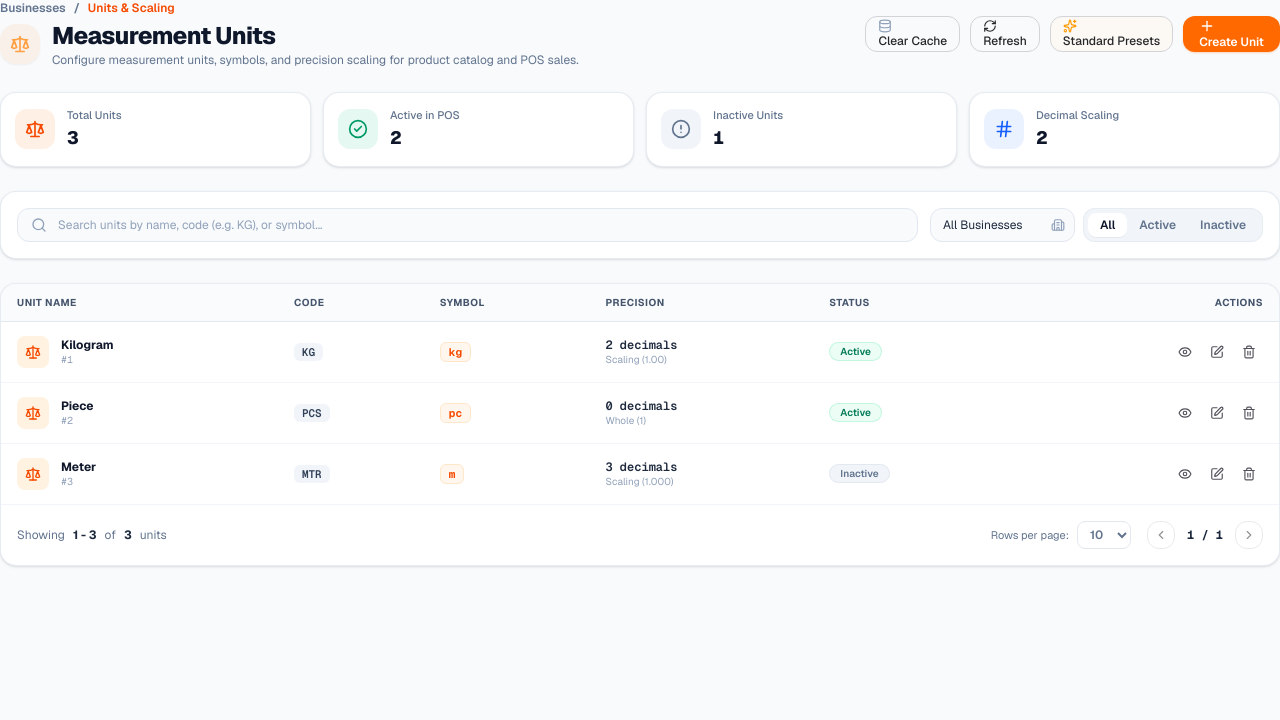
Test case: UnitsListView Component › opens create unit modal when clicking '+ Create Unit'
The image size is (1280, 720).
What coordinates should you click on to do the following:
click the button "Create Unit"
I would click on:
 (1232, 34)
Its box is [1183,16,1279,52].
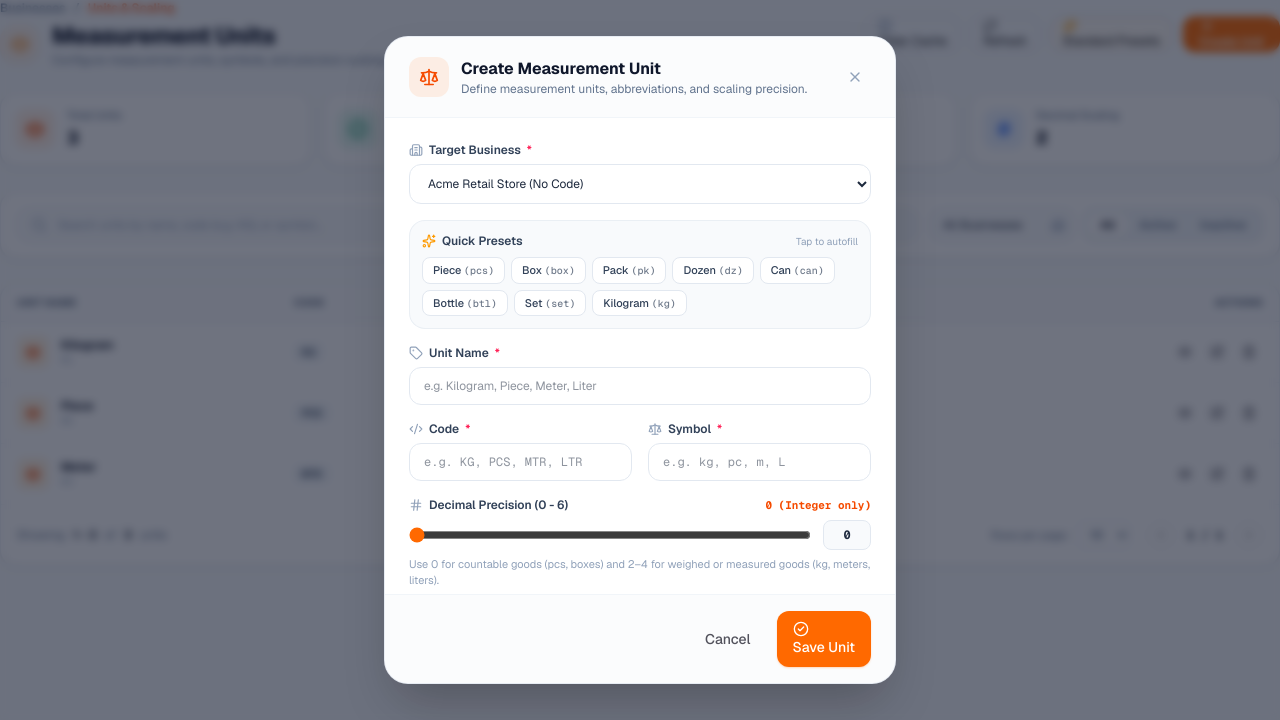
Expected: the heading "Create Measurement Unit" is shown, [461,58,661,79]
